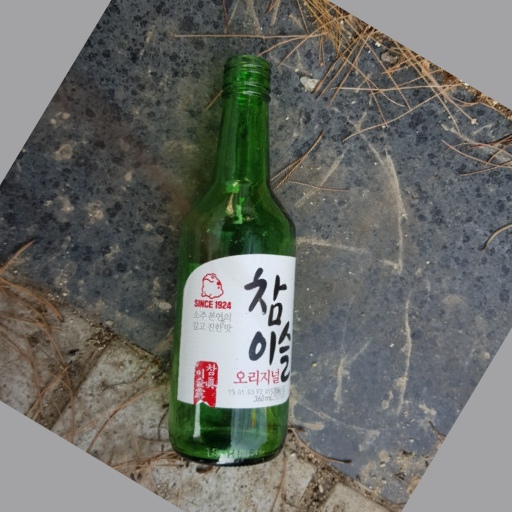Glass_0: (169, 56, 303, 474)
